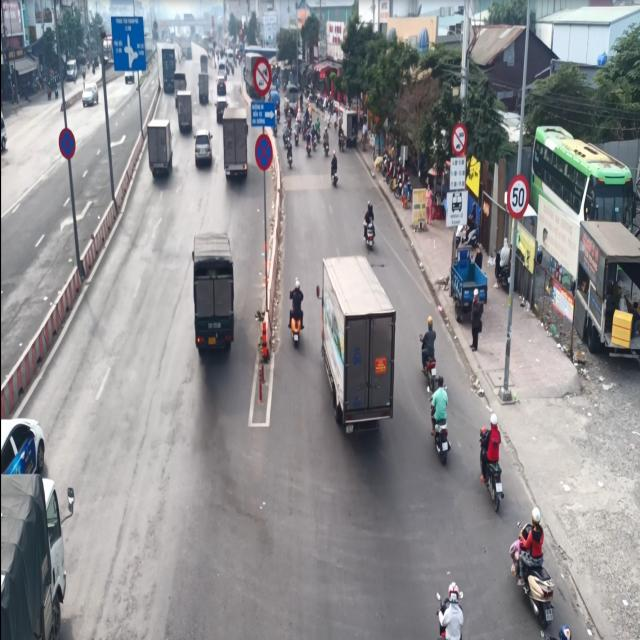car: (318, 253, 398, 442), (191, 124, 215, 176)
motor: (506, 505, 559, 623), (475, 409, 502, 518), (428, 379, 454, 474), (286, 270, 306, 354), (362, 192, 382, 258)
truck: (189, 229, 240, 369), (220, 104, 257, 185), (144, 114, 176, 185)
